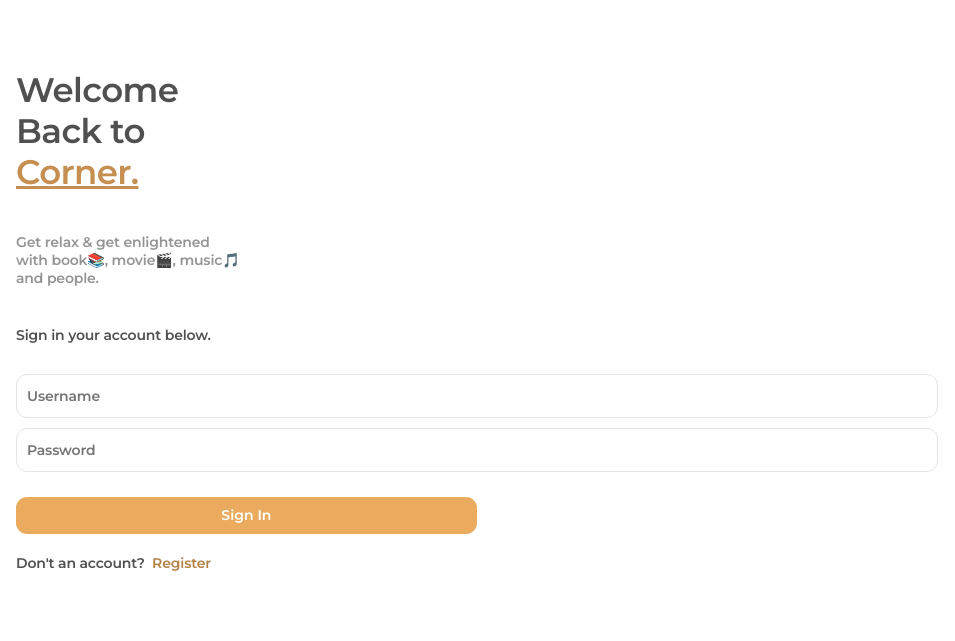
it: UI › redirect to register page
Click the link with test id "to-register". click: [182, 563]
box: left=152, top=554, right=211, bottom=572
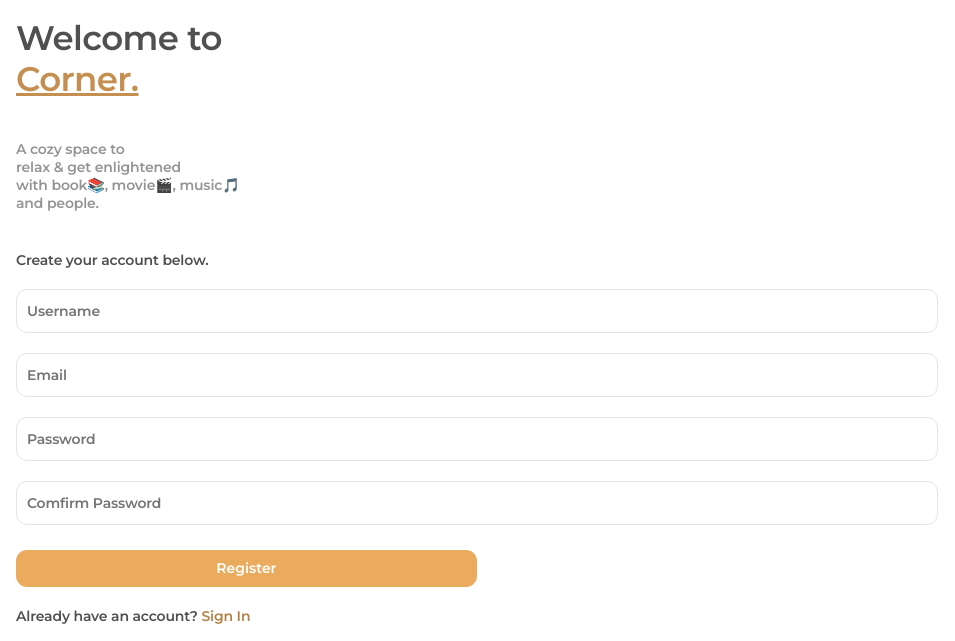
Result: the element with test id "registration" is shown
